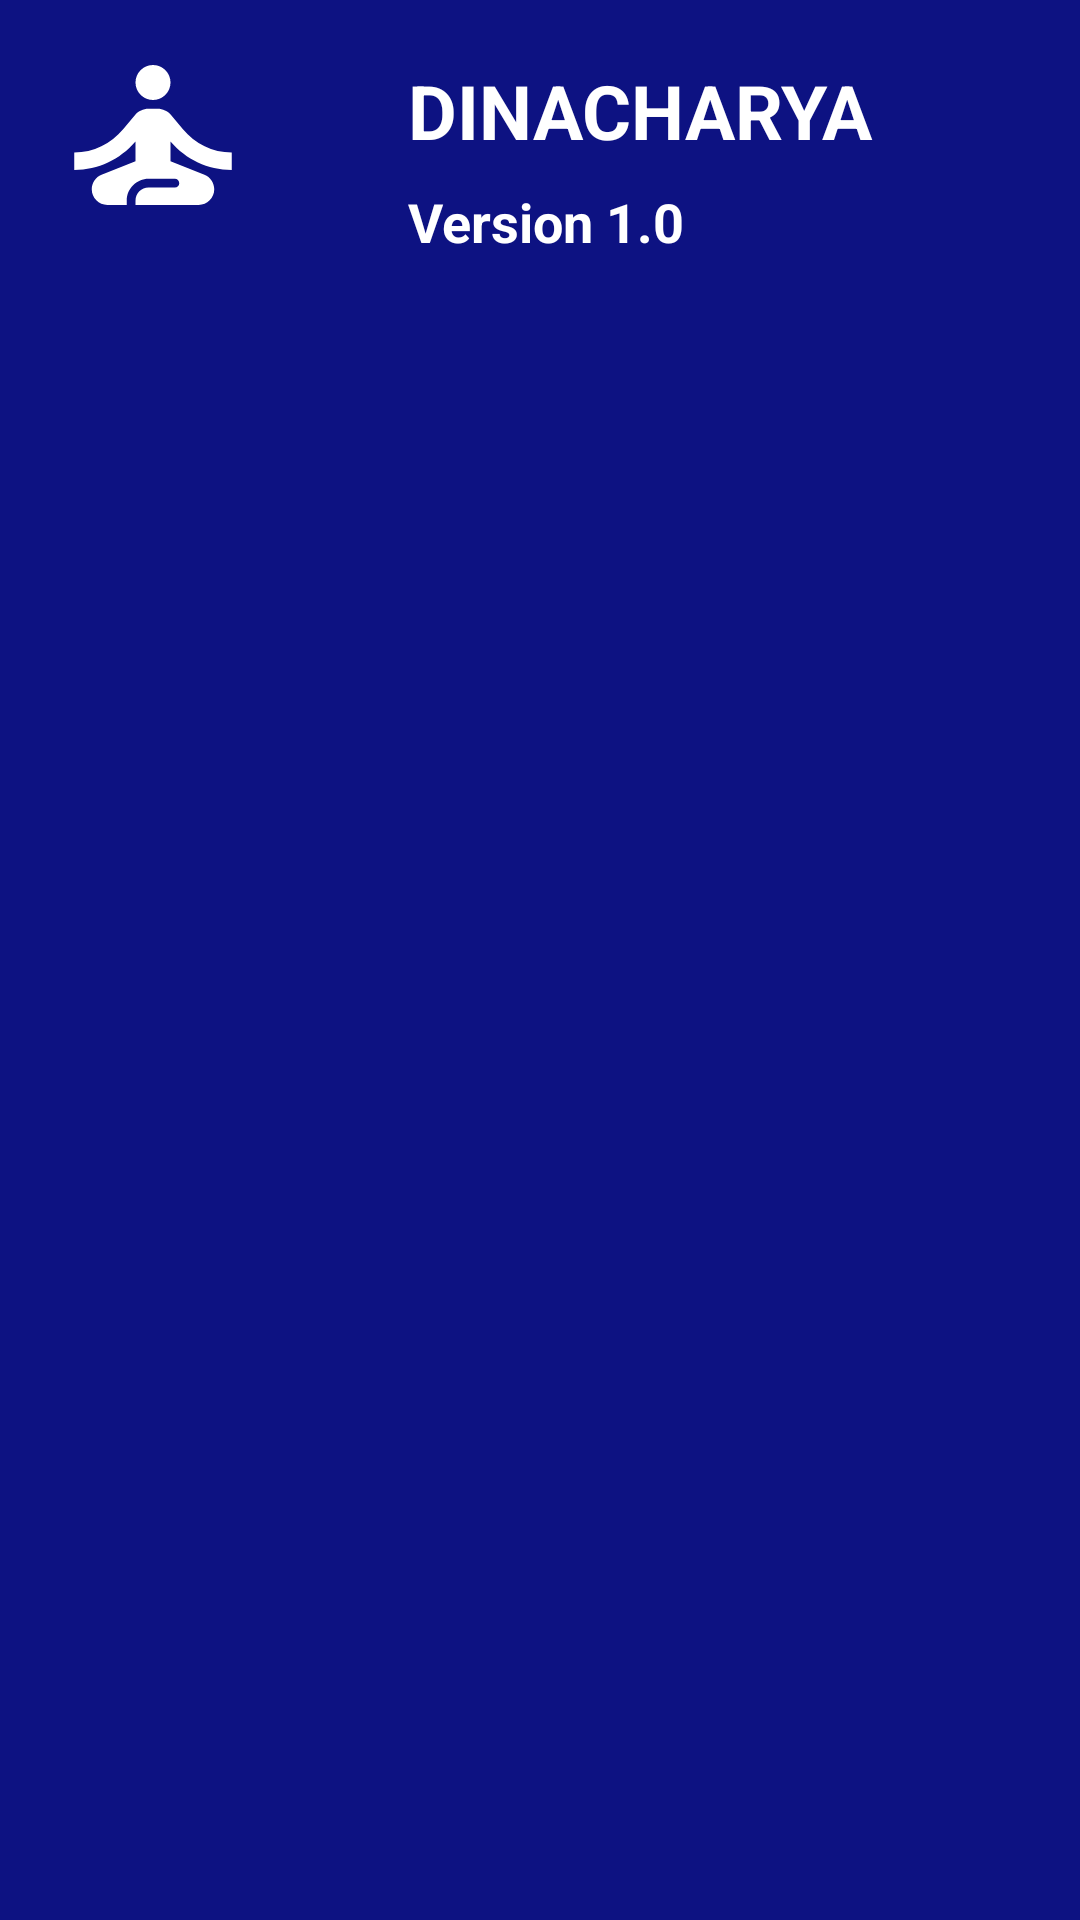

Screen size 1080 × 1920. Icon name, then its box in pixels as box=[x1, y1, x2, y2]:
self improvement: box=[74, 65, 232, 205]
